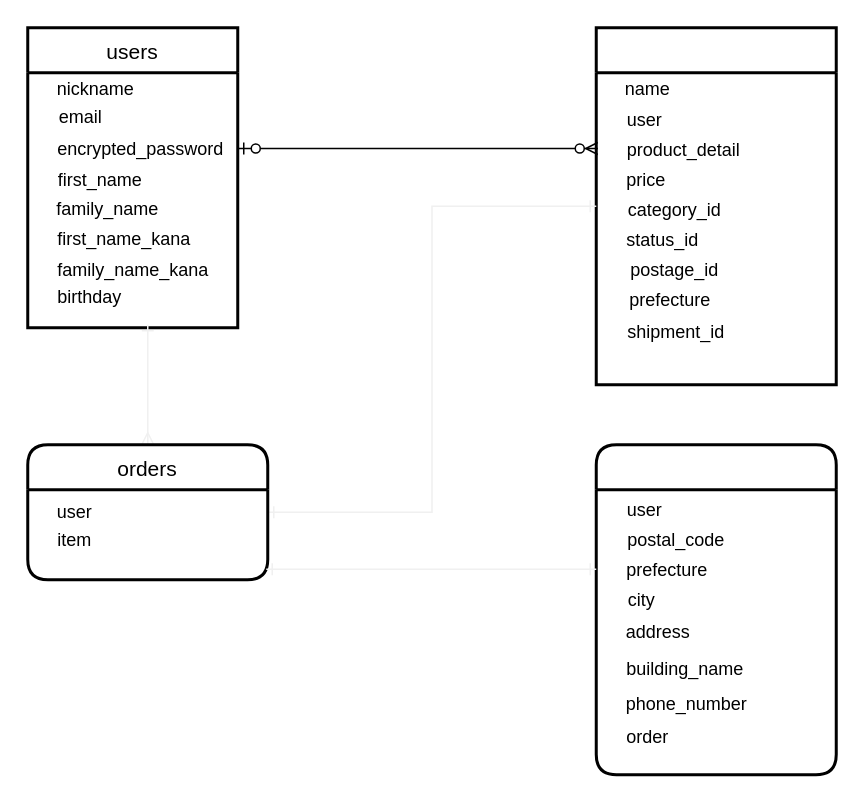
Image size: 863x801. Some labels were removed from this diagram. The shapes that lost their labels are listed below. From the top down, each one's box as (x1, y1, x2, y2) in pixels, then its label:
(594, 26, 837, 386): items
(594, 442, 837, 776): addresses
